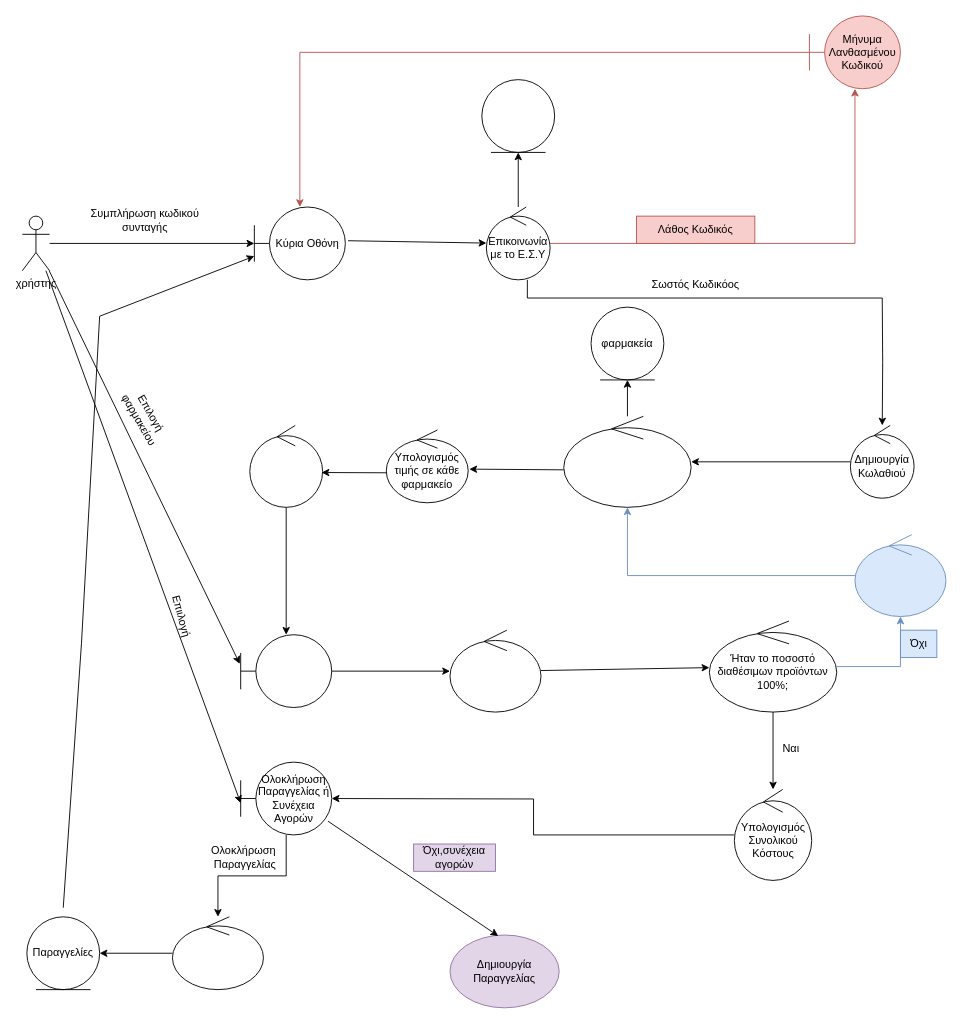
This 962x1024 diagram has some shape labels left out. The centre of each missing label's shape, as x and y in pixels:
"Δημιουργία Καλαθιού με ταπροϊόντα που έχουν απομείνει" belongs at (900,575).
"Ε.Σ.Υ(Εθνικό Σύστημα Υγείας)" belongs at (518,115).
"Εμφάνιση Φαρμακείου με αύξηση τιμή" belongs at (286,466).
"Εύρεση φαρμακείων με το μέγιστο ποσοστό διαθέσιμων προιόντων" belongs at (627,461).
"Καταχώηρηση Παραγγελίας" belongs at (217,953).
"Οθόνη Επιλογής Φαρμακείου" belongs at (286,671).
"Προσθήκη Προιόντων στο Καλάθι Αγορών" belongs at (495,670).
